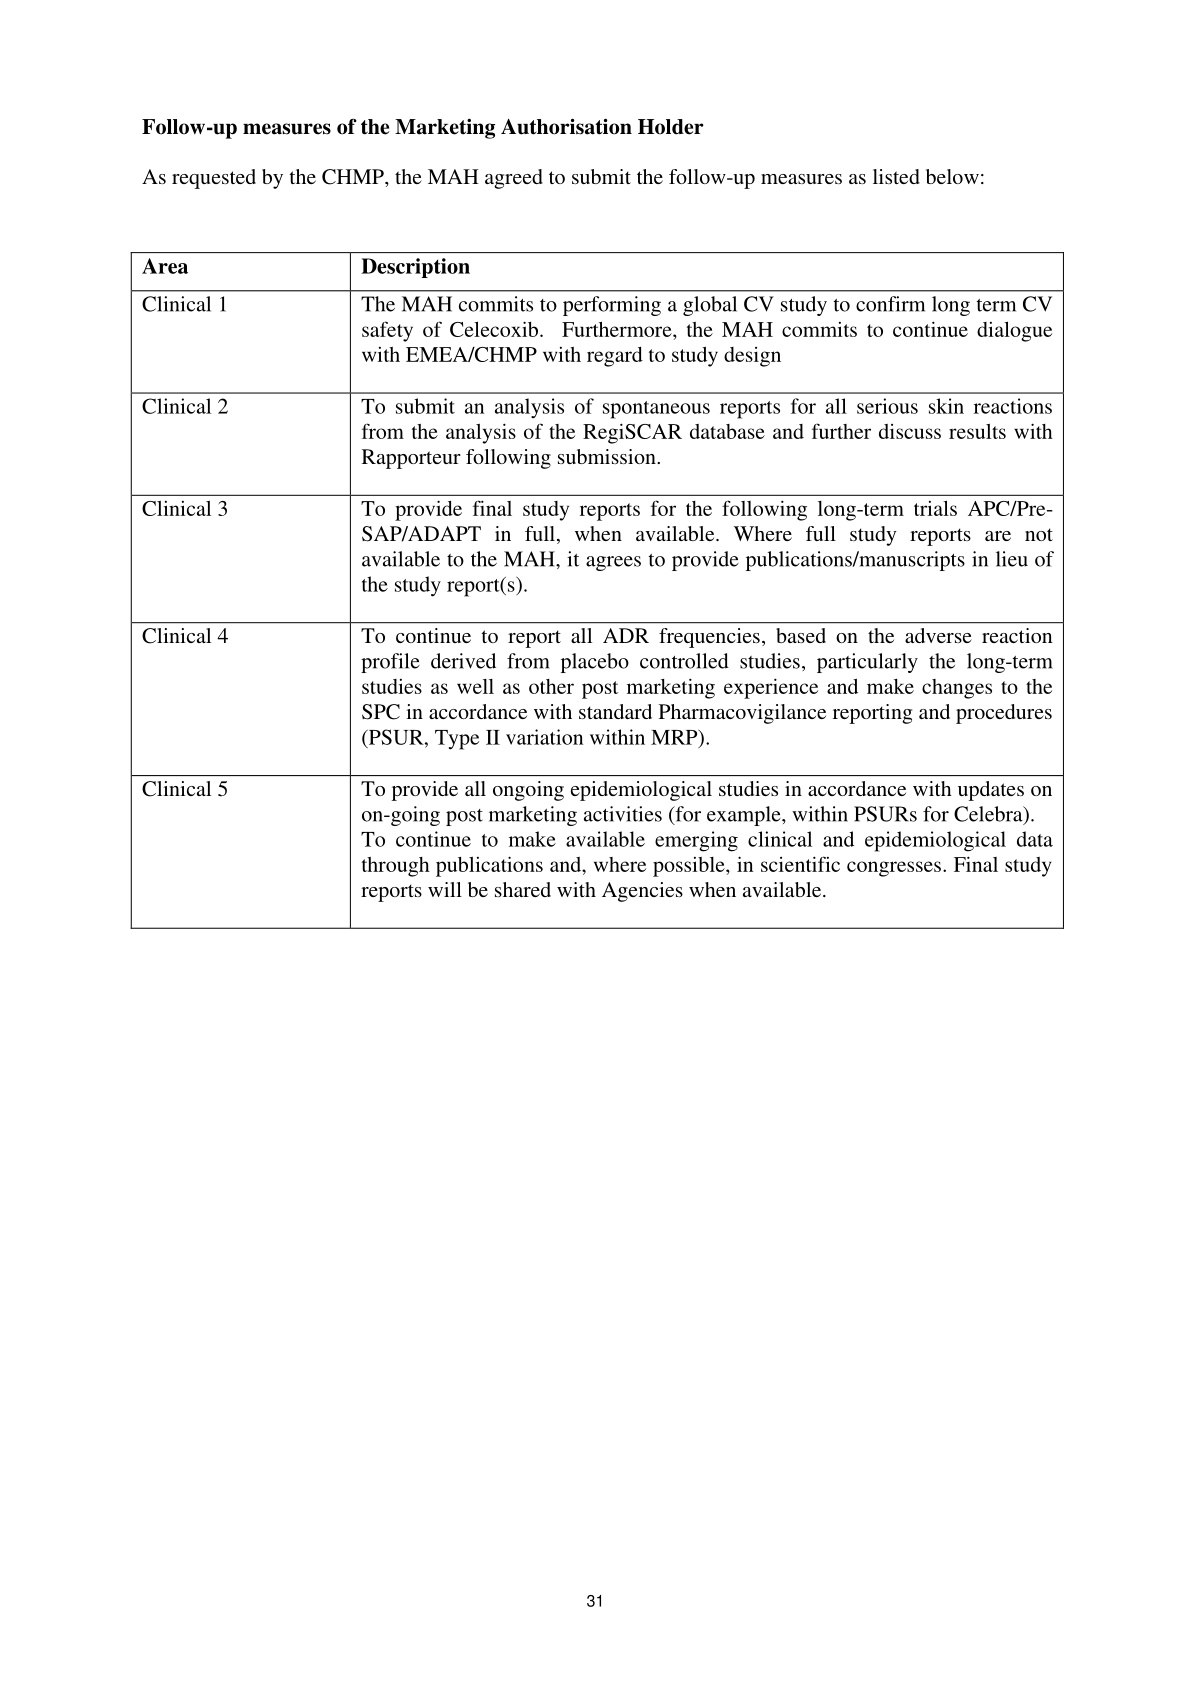full_lined: (118, 245, 1073, 936)
